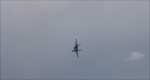maybay_muctieu: (71, 37, 83, 57)
